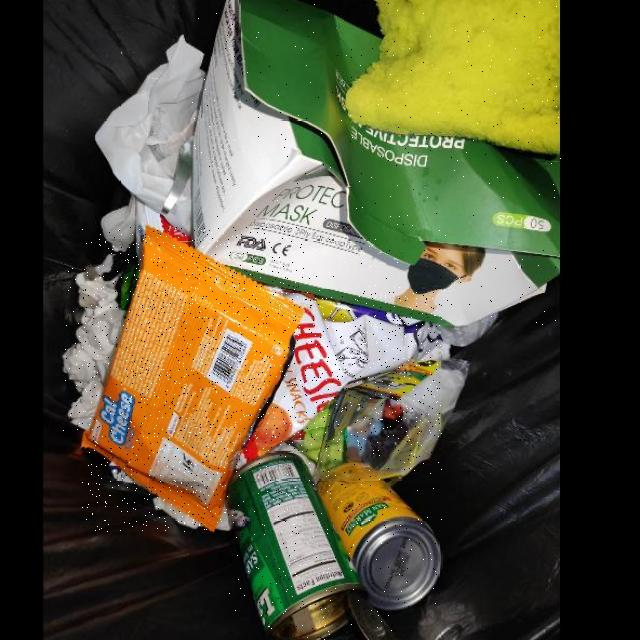metal: (229, 453, 399, 640), (318, 462, 442, 611)
paper: (192, 0, 561, 326), (62, 255, 126, 431)
wrapper: (82, 227, 304, 532), (235, 289, 442, 470)
